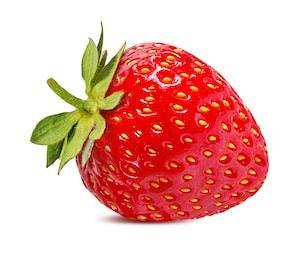Fresa: (72, 39, 272, 228)
